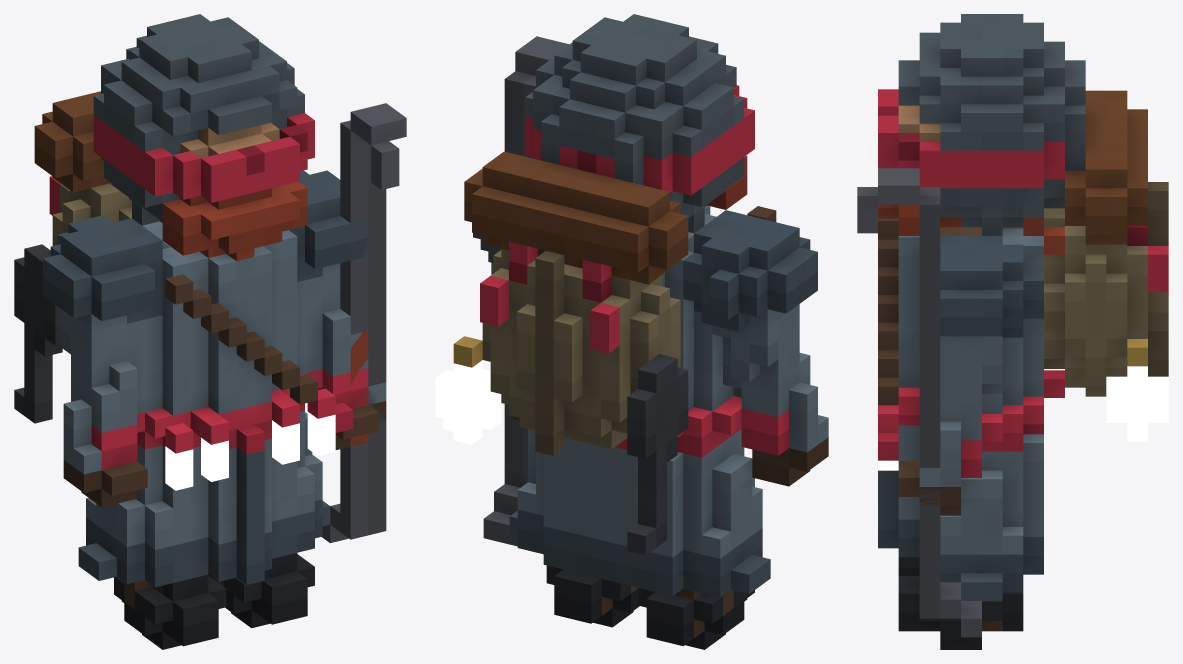
The model's file is u_receleur__lame.glb.
The picture shows the model from 3 angles, left to right: view 1: azimuth 30°, elevation 25°; view 2: azimuth 150°, elevation 25°; view 3: azimuth 270°, elevation 25°; orthographic projection. The views are drawn at different scales.
Visible parts, largest first — view 1: receleur_body, receleur_weapon, receleur_glow; view 2: receleur_body, receleur_weapon, receleur_glow; view 3: receleur_body, receleur_weapon, receleur_glow.
Boxes of the visible parts, left/top/right/bottom form: receleur_body: left=14, top=14, right=386, bottom=649; receleur_weapon: left=321, top=103, right=406, bottom=543; receleur_glow: left=165, top=412, right=335, bottom=490; receleur_body: left=453, top=14, right=828, bottom=649; receleur_weapon: left=483, top=36, right=568, bottom=546; receleur_glow: left=435, top=360, right=501, bottom=444; receleur_body: left=878, top=14, right=1168, bottom=649; receleur_weapon: left=857, top=168, right=981, bottom=637; receleur_glow: left=878, top=366, right=1168, bottom=470.
Size of the model in its own units: 0.85 by 1.55 by 0.75.
